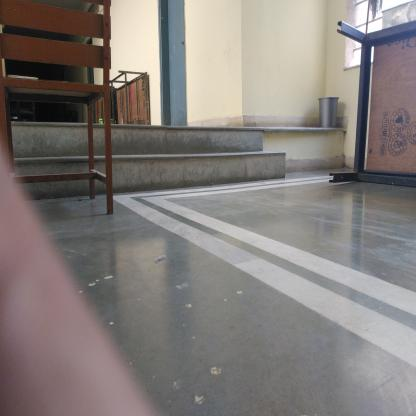stairs: (114, 120, 264, 194)
